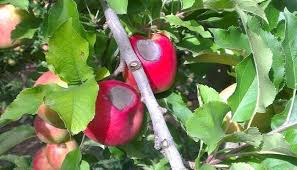damaged_apple: (75, 82, 147, 146), (121, 36, 181, 94)
